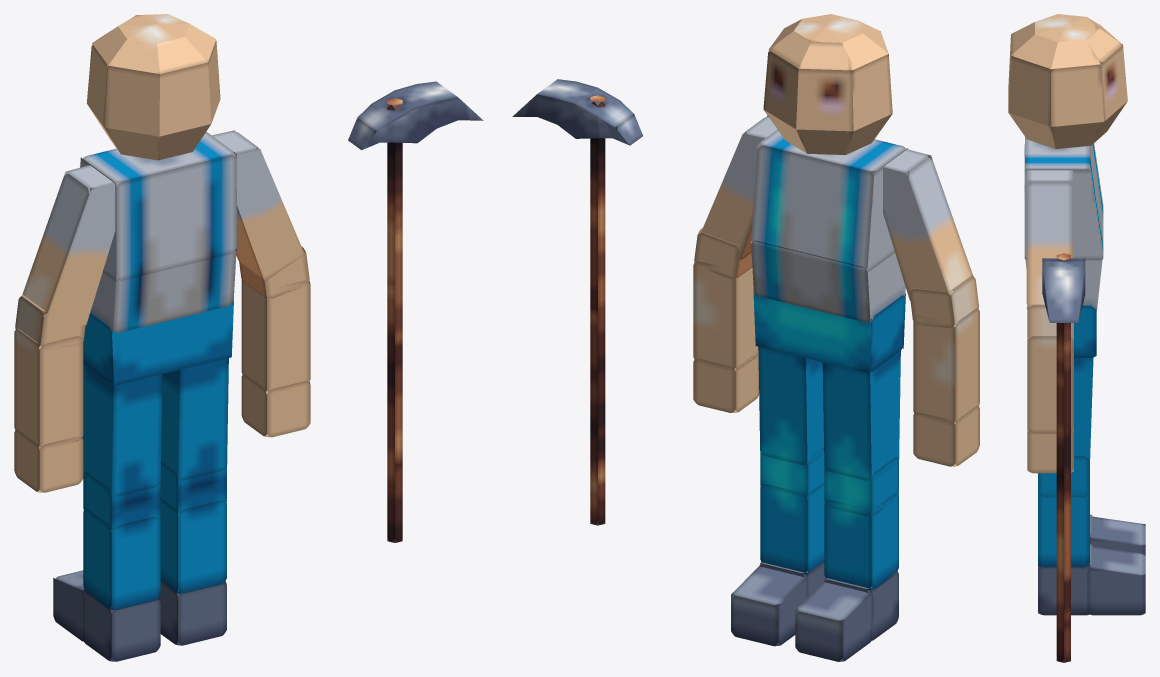
Rendered from human.fbx.
The picture shows the model from 3 angles, left to right: view 1: azimuth 30°, elevation 25°; view 2: azimuth 150°, elevation 25°; view 3: azimuth 270°, elevation 25°; orthographic projection. The views are drawn at different scales.
Visible parts, largest first — view 1: head, chest, armUpLeft, LegUpR, hip, LegUpR_1, middle, armDownLeft, armDownRight, LegDownR_1, stick, armUpRight (+11 smaller); view 2: chest, head, armUpLeft, LegUpR, hip, middle, LegUpR_1, armDownLeft, stick, armDownRight, LegDownR_1, LegDownR (+12 smaller); view 3: head, stick, armUpRight, chest, stubbyR, armDownRight, LegDownR, head_2, footMiddleR, LegUpR_1, stubbyR_2, handRight (+4 smaller).
Boxes of the visible parts, x1,y1,x2,y2 form: head: [86, 14, 220, 160]; chest: [80, 132, 236, 280]; armUpLeft: [22, 165, 120, 325]; LegUpR: [82, 364, 162, 496]; hip: [83, 300, 233, 385]; LegUpR_1: [161, 358, 228, 480]; middle: [90, 248, 236, 333]; armDownLeft: [14, 328, 83, 449]; armDownRight: [241, 279, 310, 393]; LegDownR_1: [83, 508, 160, 609]; stick: [387, 98, 402, 542]; armUpRight: [212, 130, 304, 280]; chest: [750, 129, 908, 272]; head: [763, 14, 892, 154]; armUpLeft: [870, 149, 973, 300]; LegUpR: [822, 351, 900, 480]; hip: [753, 290, 905, 373]; middle: [751, 240, 905, 323]; LegUpR_1: [758, 346, 823, 465]; armDownLeft: [913, 308, 979, 424]; stick: [590, 95, 605, 525]; armDownRight: [693, 261, 758, 370]; LegDownR_1: [824, 492, 898, 590]; LegDownR: [760, 482, 824, 574]; head: [1008, 14, 1127, 149]; stick: [1056, 253, 1070, 662]; armUpRight: [1026, 168, 1073, 309]; chest: [1024, 137, 1103, 260]; stubbyR: [1087, 546, 1145, 615]; armDownRight: [1027, 336, 1073, 433]; LegDownR: [1038, 490, 1089, 567]; head_2: [1042, 258, 1085, 322]; footMiddleR: [1038, 544, 1092, 615]; LegUpR_1: [1074, 357, 1093, 460]; stubbyR_2: [1090, 516, 1145, 553]; handRight: [1027, 431, 1073, 473].
Size of the model in its own units: 285 by 366 by 80.94.
Materials: 2 (2 with a texture image).
